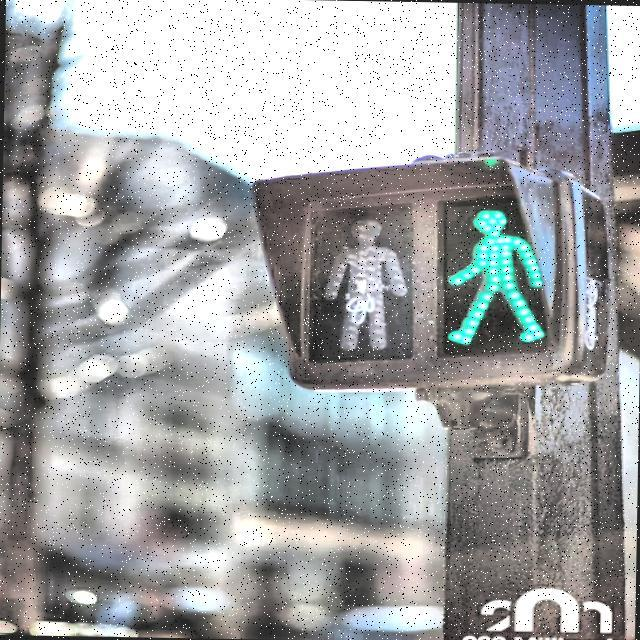green_light: (443, 205, 551, 348)
